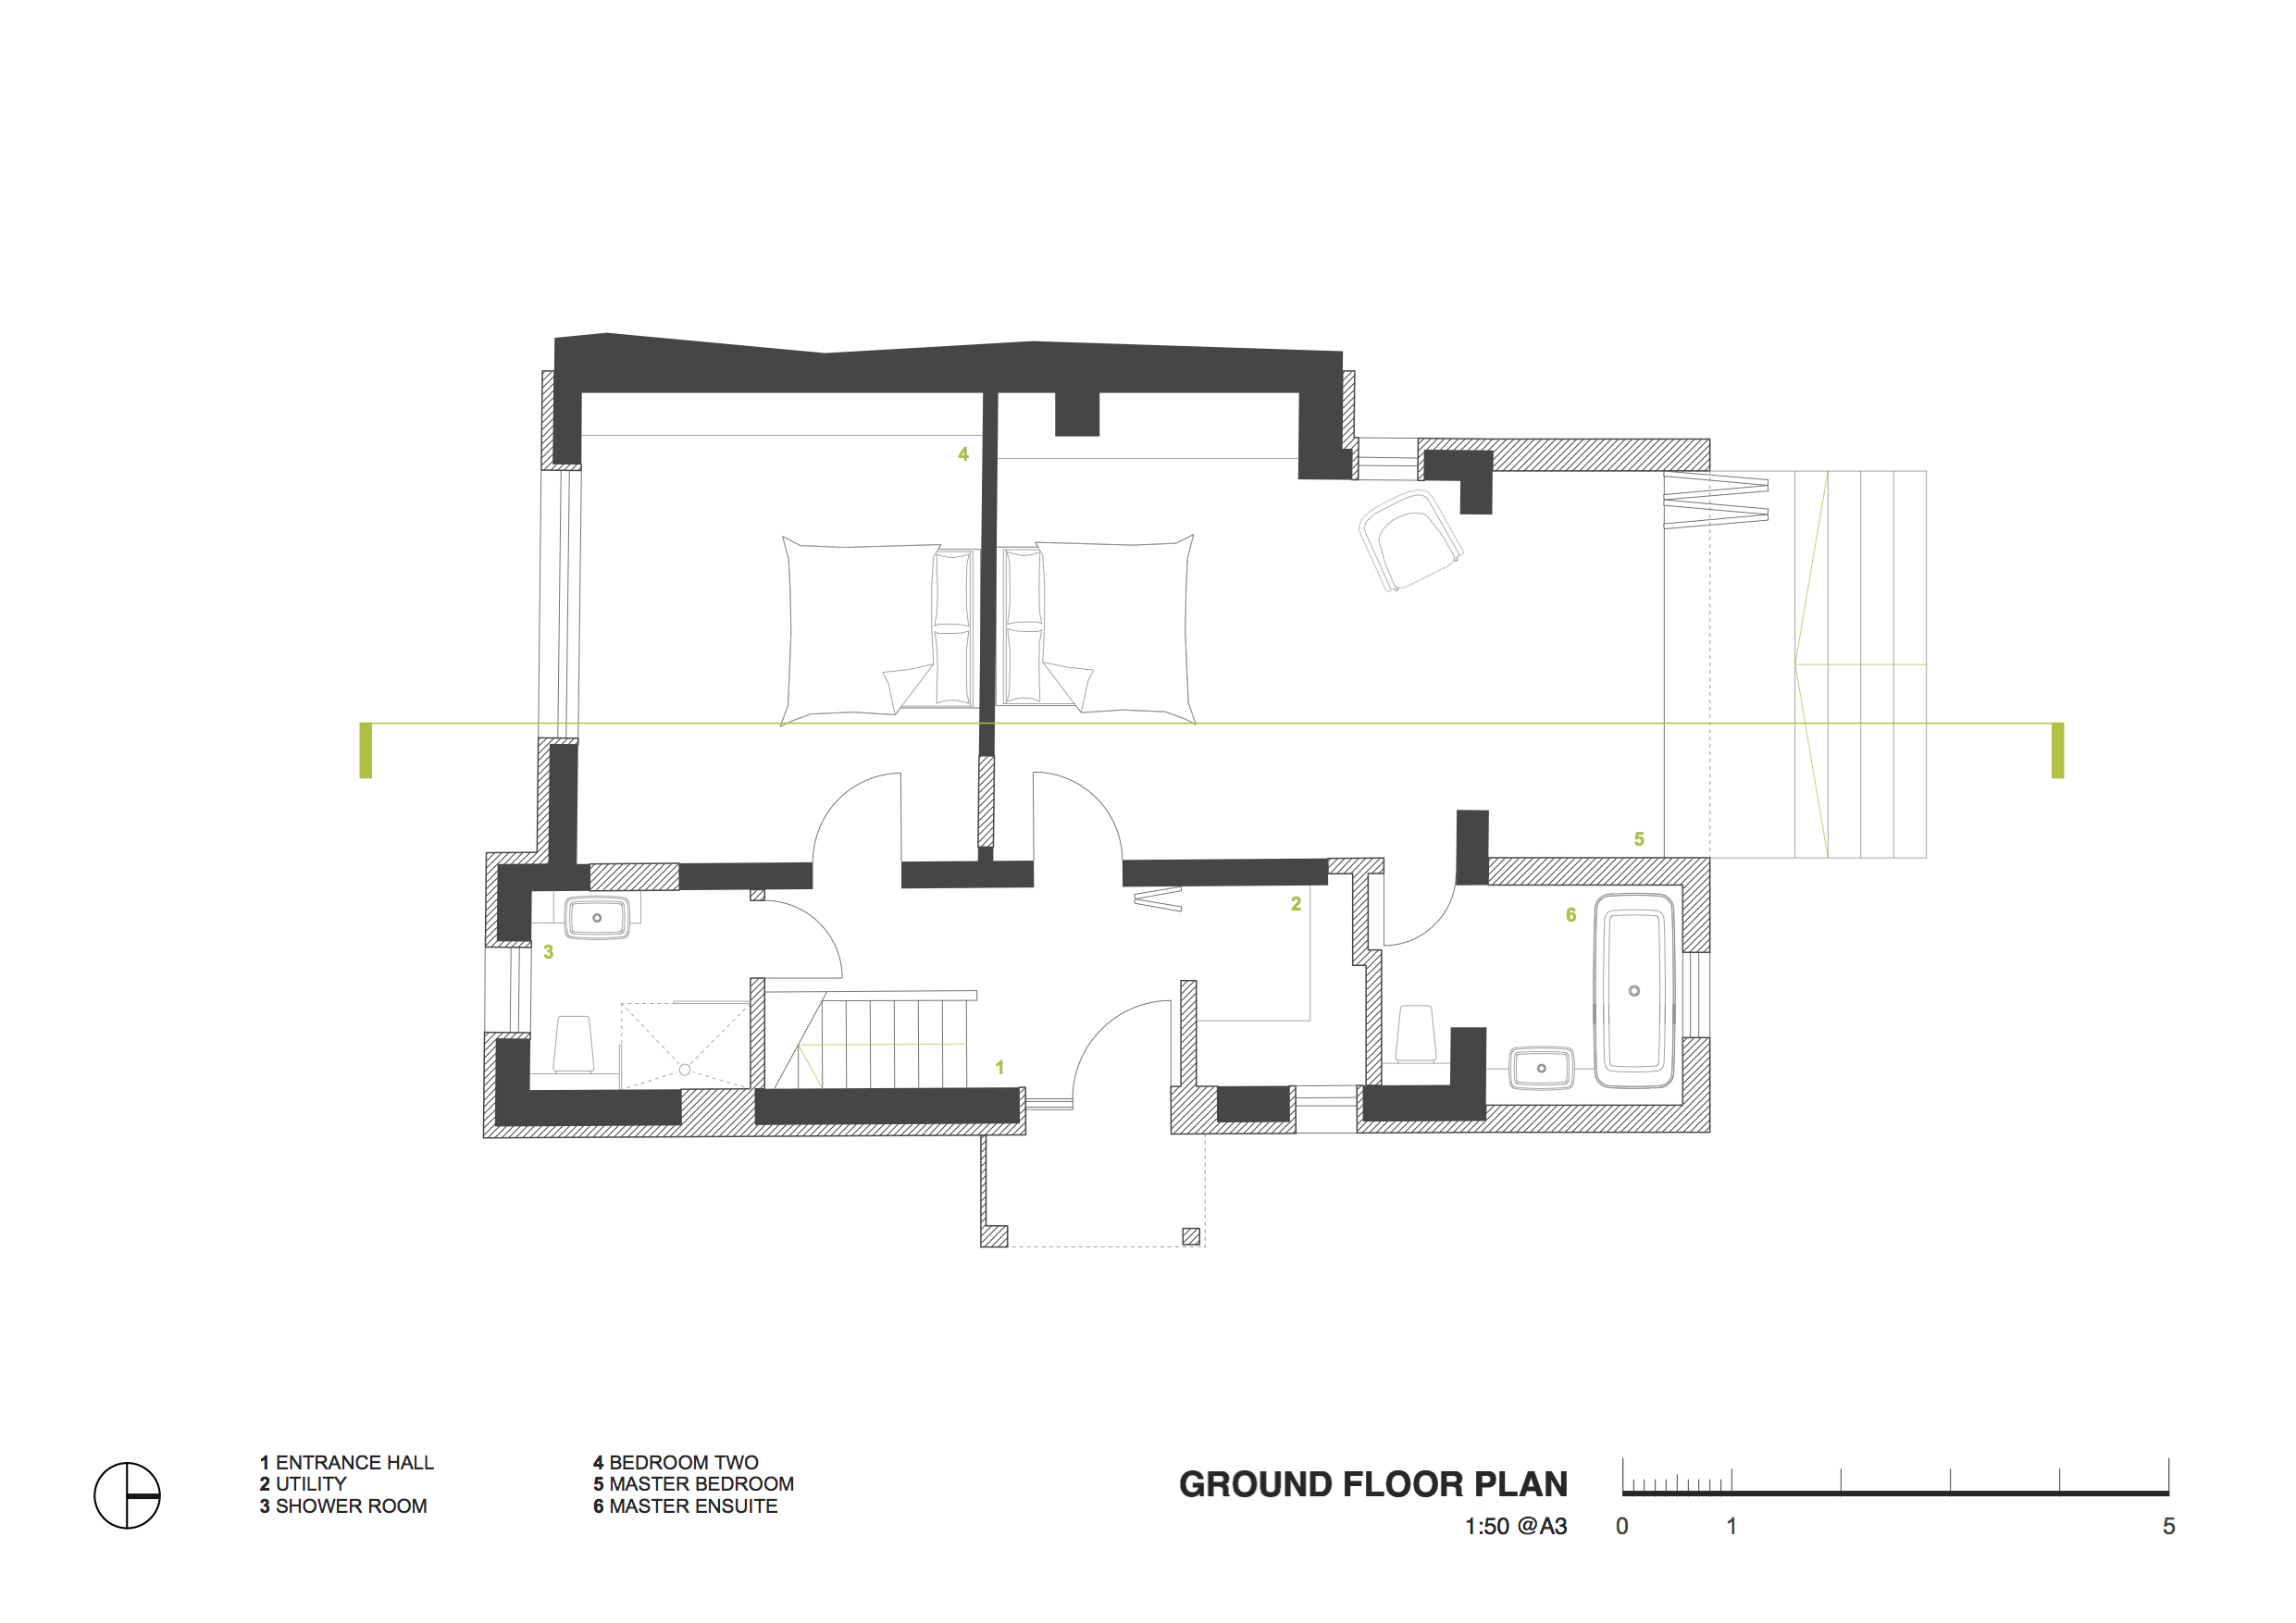wall: (557, 334, 996, 393), (996, 339, 1344, 404), (1367, 1089, 1715, 1142), (1351, 854, 1386, 1086), (759, 1089, 1012, 1121), (1490, 854, 1709, 889), (483, 1089, 668, 1126), (1170, 1080, 1298, 1133), (1302, 341, 1349, 478), (1126, 859, 1332, 889), (1676, 1036, 1716, 1147), (1423, 436, 1493, 494), (1451, 1024, 1493, 1114), (906, 859, 1036, 887), (553, 335, 583, 457), (550, 738, 574, 882), (676, 864, 808, 889), (497, 864, 532, 949), (1214, 1080, 1286, 1121), (1681, 855, 1711, 952), (1455, 808, 1491, 884), (497, 1042, 531, 1121), (1462, 448, 1497, 511), (980, 381, 986, 754)
